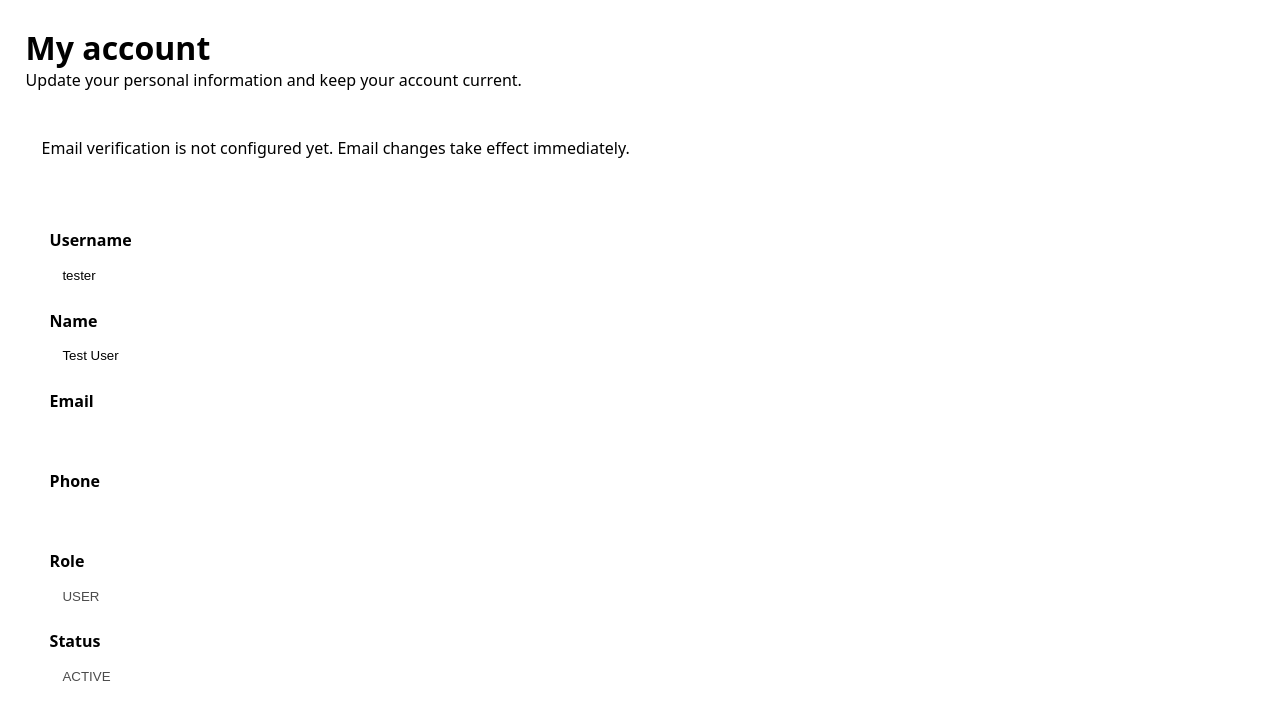
Test case: AccountPage › shows an error when update fails
Replace the text in the field labelled "Name" with "New Name" at (640, 356), box [50, 338, 1230, 374]
(page scrolled)
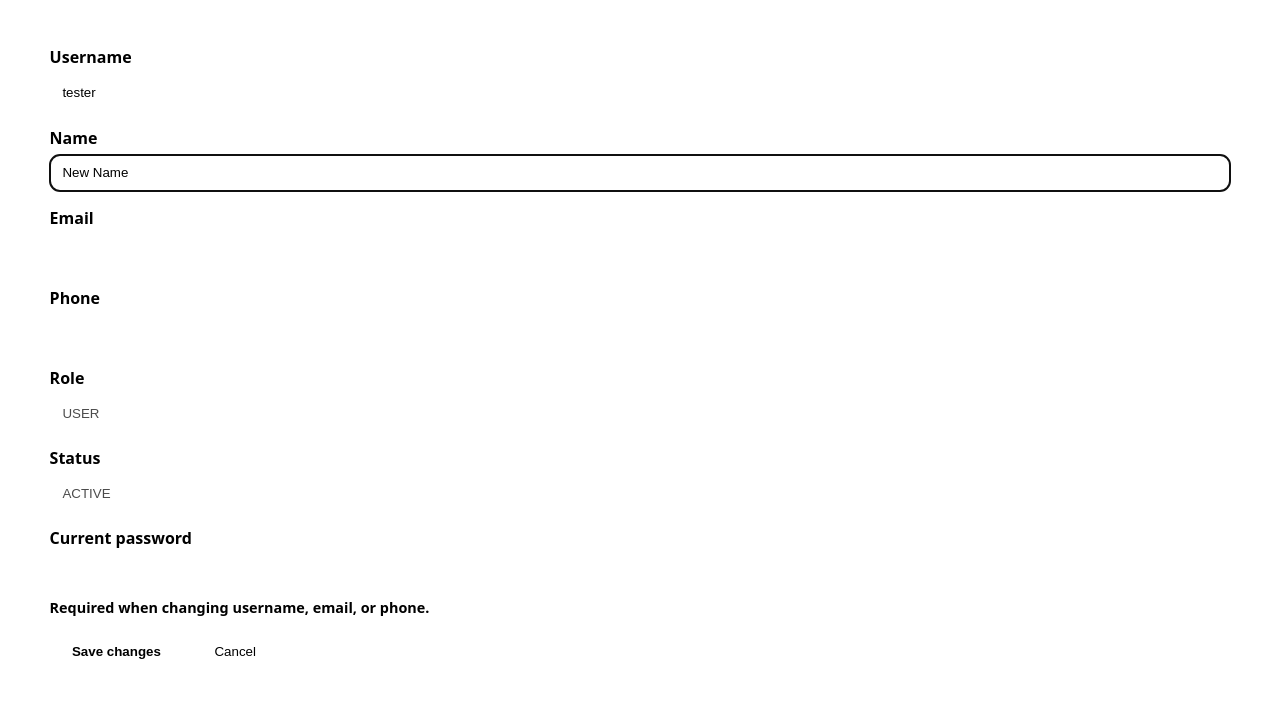
Click the button "Save changes" at (116, 652), box [50, 633, 183, 670]
(page scrolled)
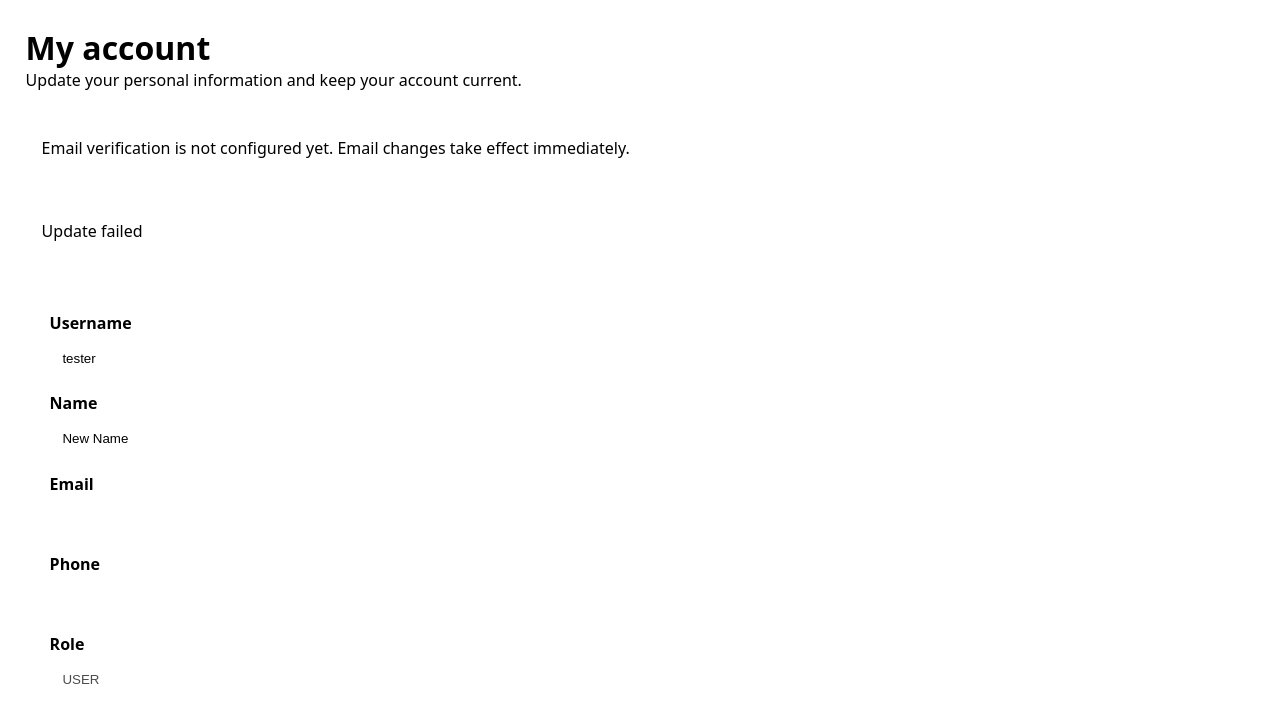
Result: the text "Update failed" is shown at [42, 220, 142, 242]
